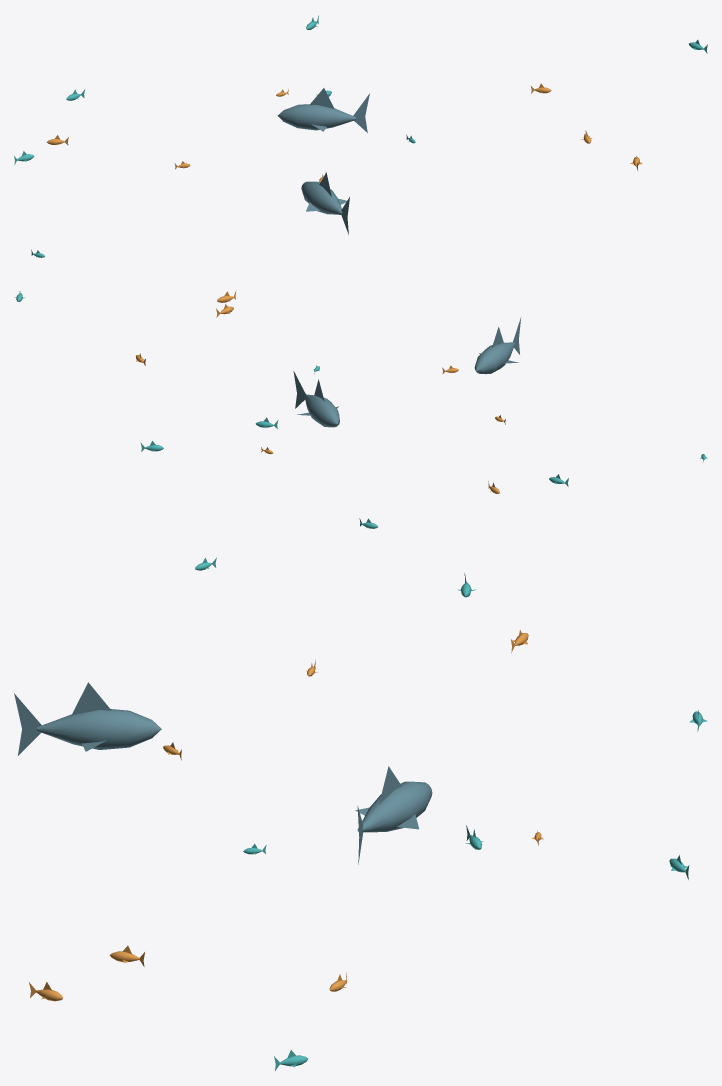
Rendered from marine.blend.glb.
The picture shows the model from 3 angles, top to bottom: view 1: azimuth 30°, elevation 25°; view 2: azimuth 150°, elevation 25°; view 3: azimuth 270°, elevation 25°; orthographic projection. The views are drawn at different scales.
Parts seen in each view (by area): view 1: Body.001, Body; view 2: Body, Body.001; view 3: Body, Body.001.
Part boxes in pixels (bbox=[...]): Body.001: bbox=[277, 104, 356, 130]; Body: bbox=[301, 181, 342, 214]; Body: bbox=[474, 342, 515, 374]; Body.001: bbox=[304, 394, 339, 427]; Body: bbox=[37, 709, 161, 749]; Body.001: bbox=[357, 781, 432, 832].
Size of the model in its own units: 31.4 by 2.5 by 17.23.
